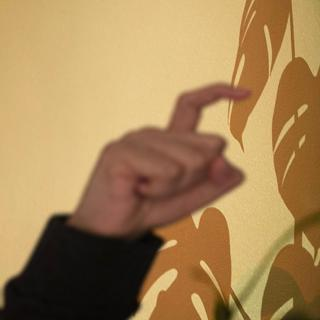WHY: (67, 71, 258, 237)
